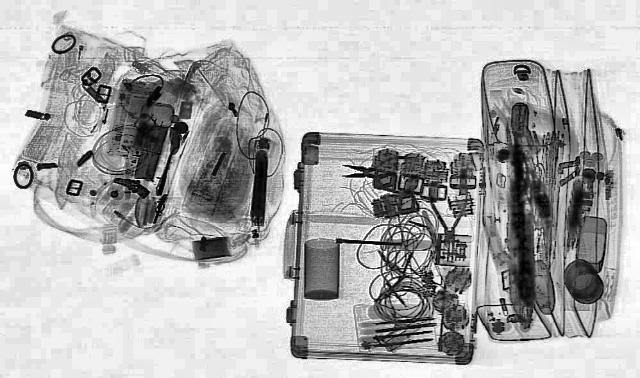Pliers: (427, 194, 469, 248), (340, 154, 404, 186)
